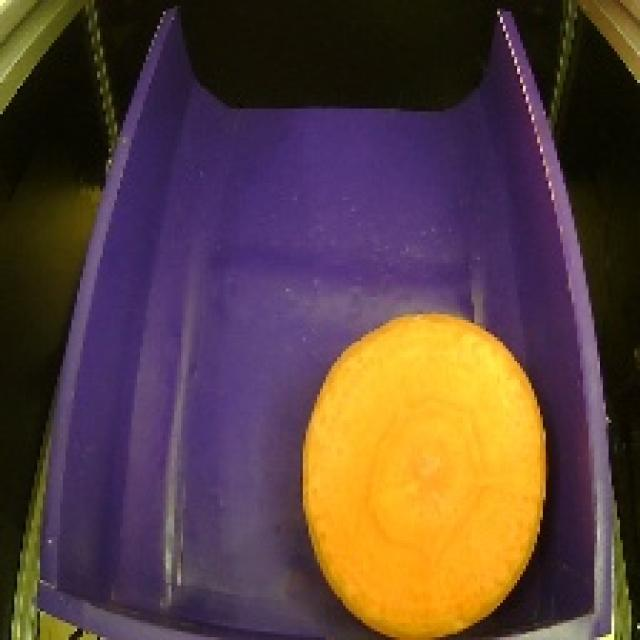carrots: (288, 299, 553, 640)
